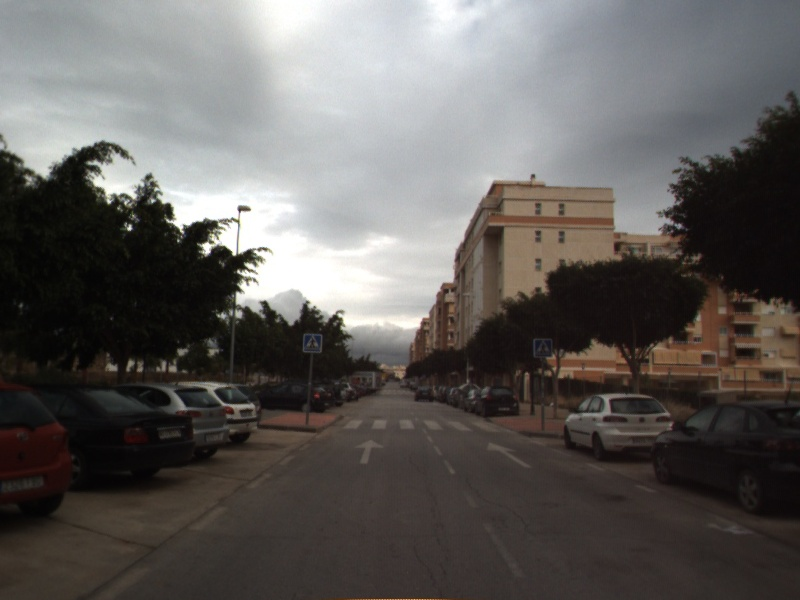STRAIGHT: (484, 440, 535, 470), (352, 437, 386, 465)
